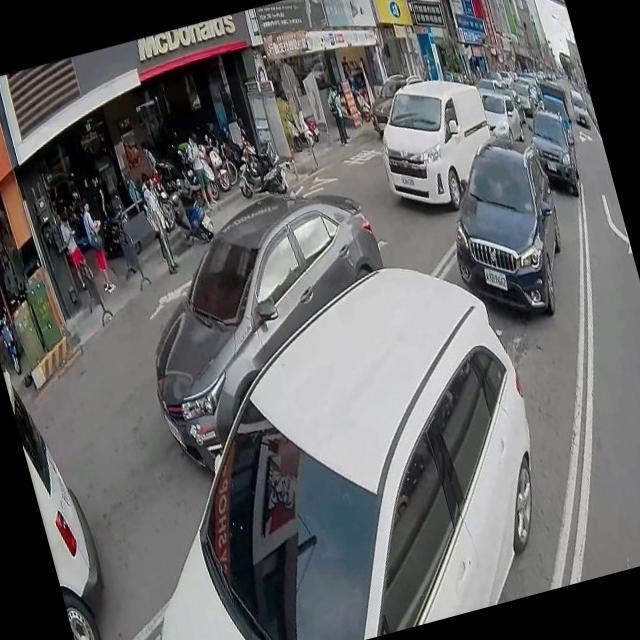person: (51, 197, 100, 310), (134, 170, 183, 276), (76, 196, 120, 302), (182, 130, 218, 209), (321, 82, 350, 146), (139, 140, 165, 190)
